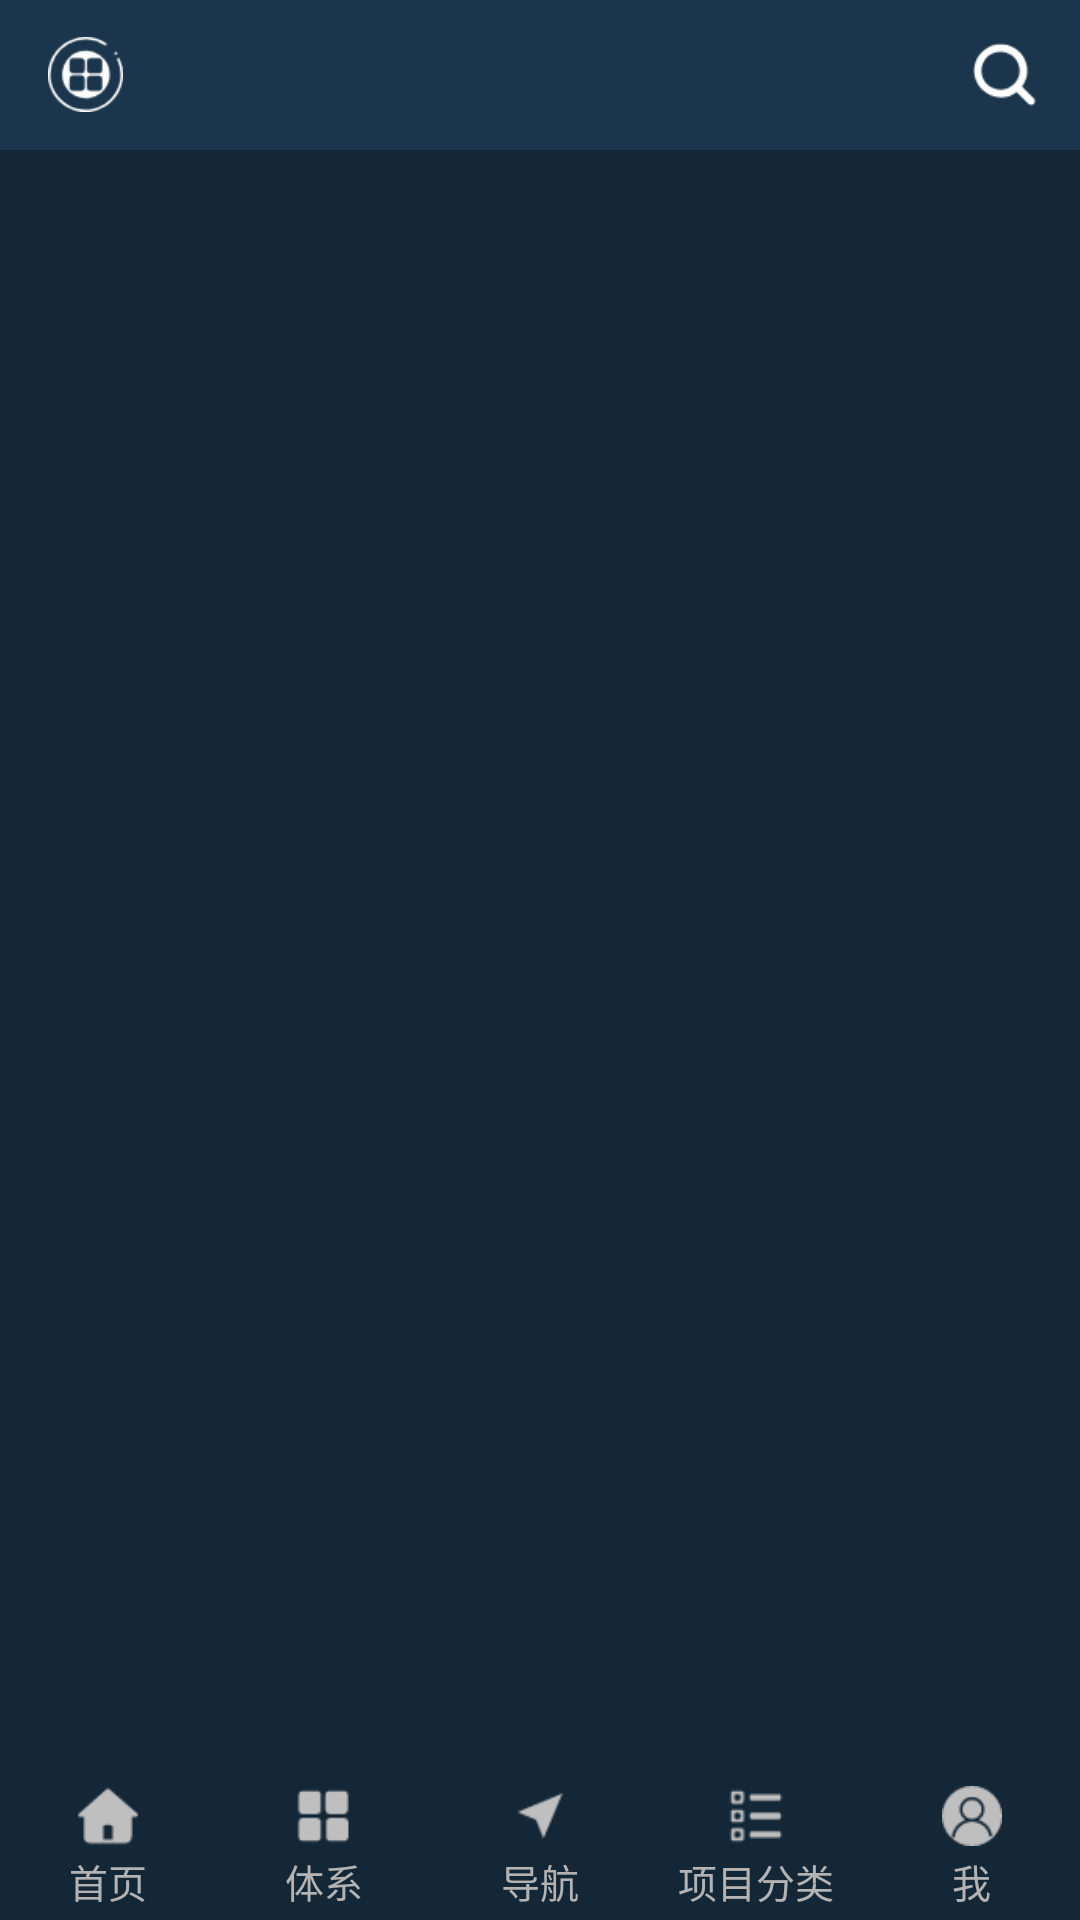

Icon bounding boxes for this 1080*1920 phone screenshot, format (x1, y1, x2, y2):
search: (973, 43, 1036, 106)
